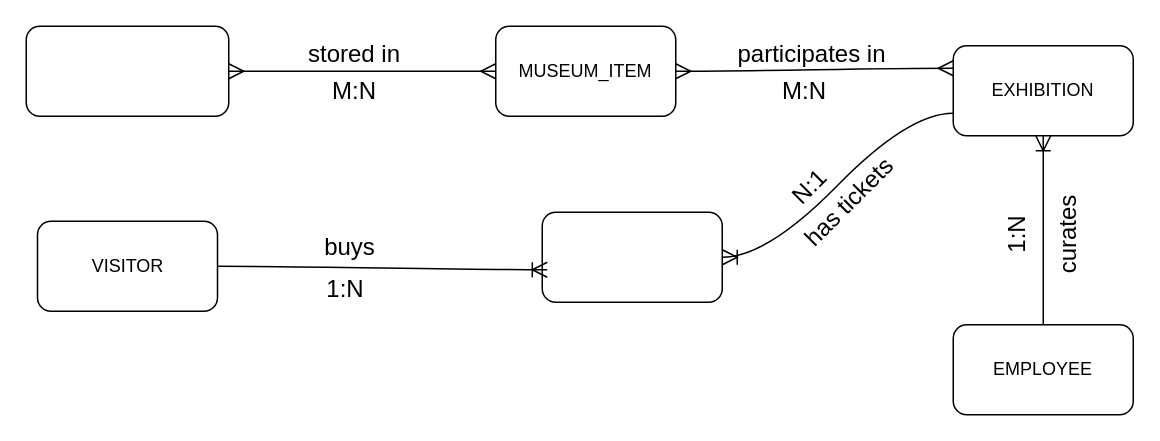
Image size: 1160x441. Some labels were removed from this diagram. The centre of each missing label's shape, as x and y in pixels:
STORAGE_LOCATION: (127,70)
TICKET: (631,256)
